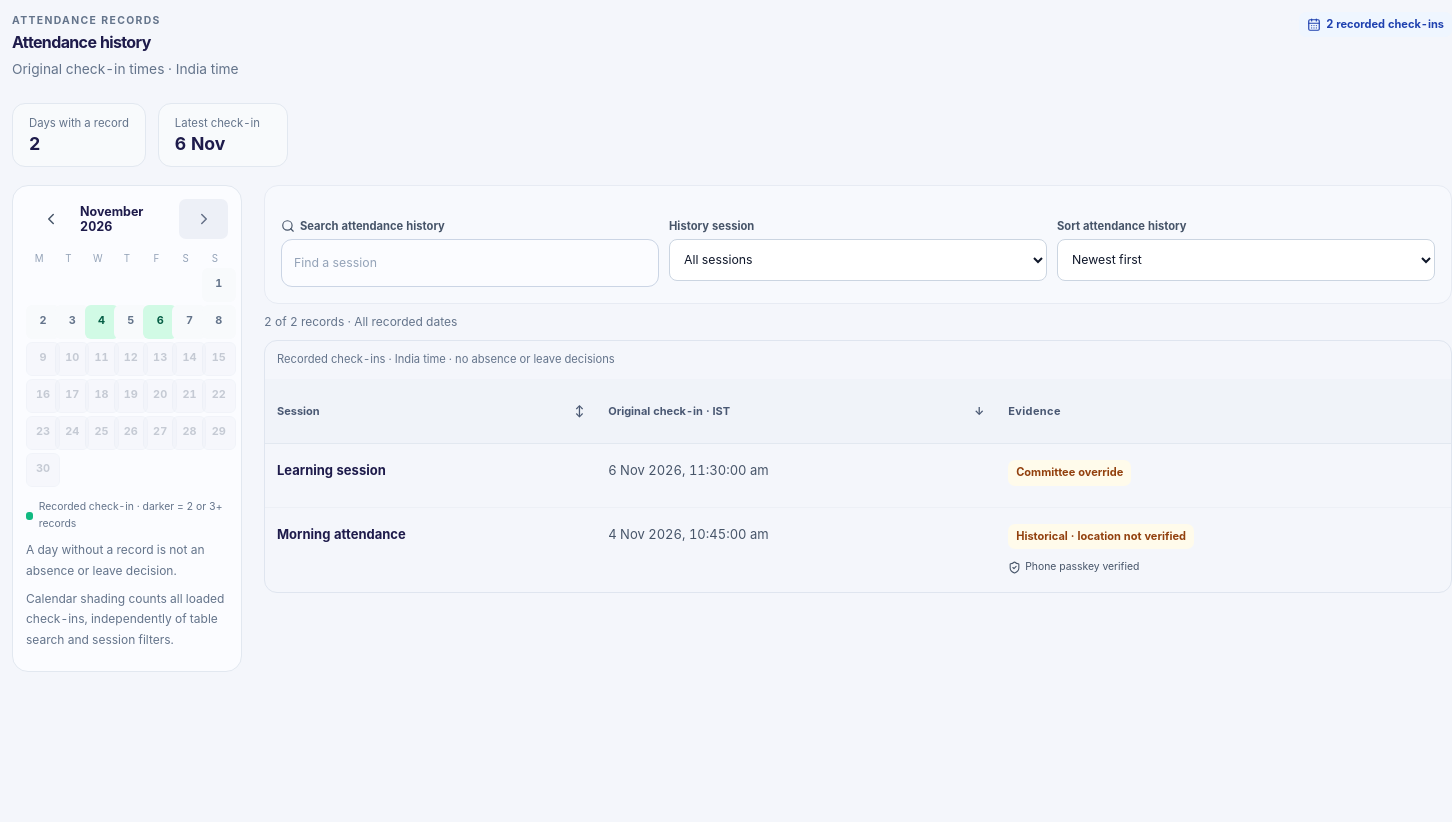
Test: calendar records India dates and never labels an empty day as an absence
The image size is (1452, 822).
Step 1. Click the button named "2026-11-03: No check-in recorded" → click(72, 322), box x1=55 y1=305 x2=89 y2=339
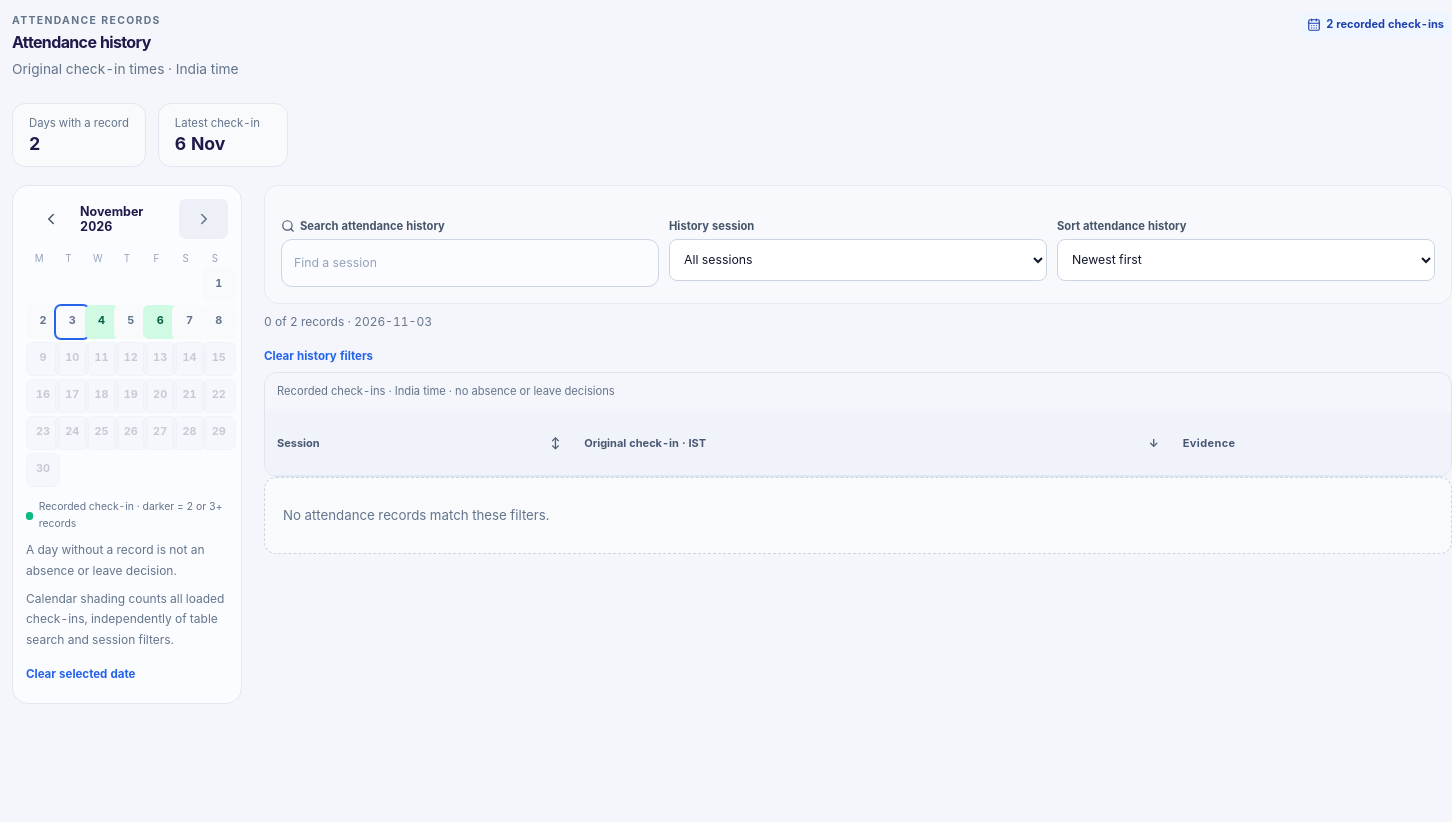
Expected: the text "A day without a record is not an absence or leave decision." is shown, x1=26 y1=540 x2=228 y2=581
Expected: the text "No attendance records match these filters." is shown, x1=264 y1=477 x2=1451 y2=554
